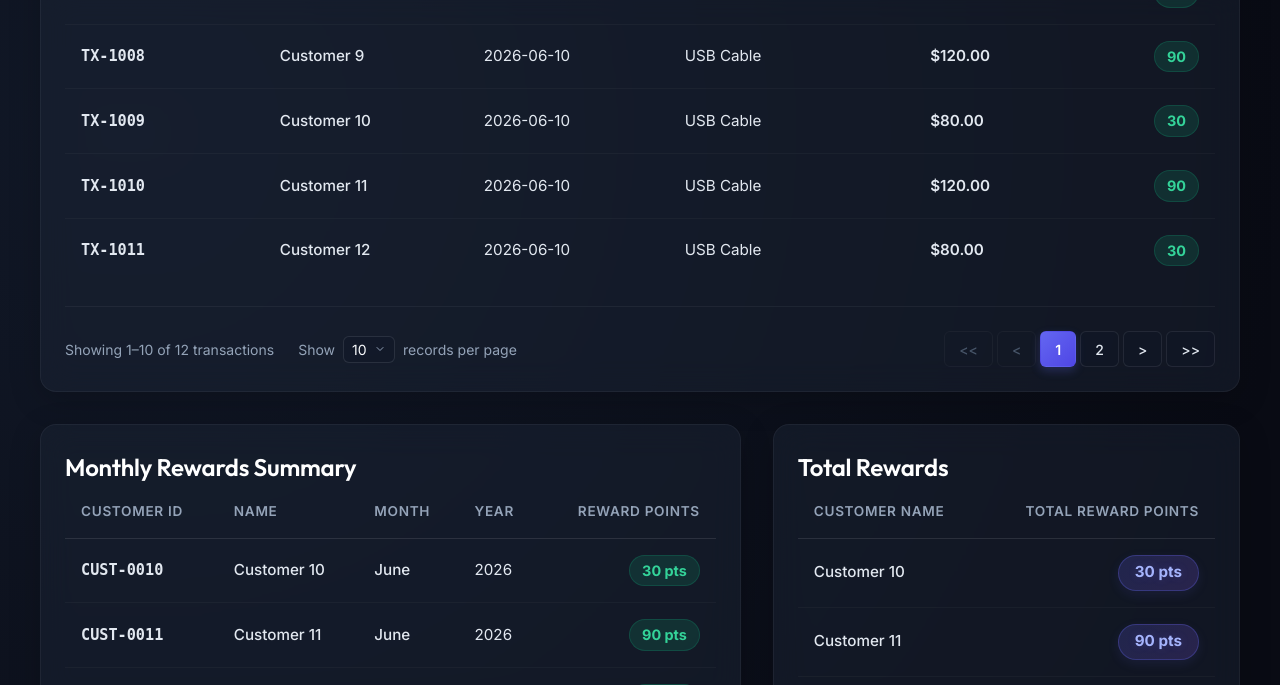
Test case: App Component Integrations › handles page size changes and resets current page to 1
(page scrolled)
Check: the text with test id "pagination-stats" reads "Showing 1–10 of 12 transactions", box [65, 339, 274, 360]
Go to Page 2
Click the button with test id "pagination-next" at (1143, 349), box [1123, 331, 1162, 367]
(page scrolled)
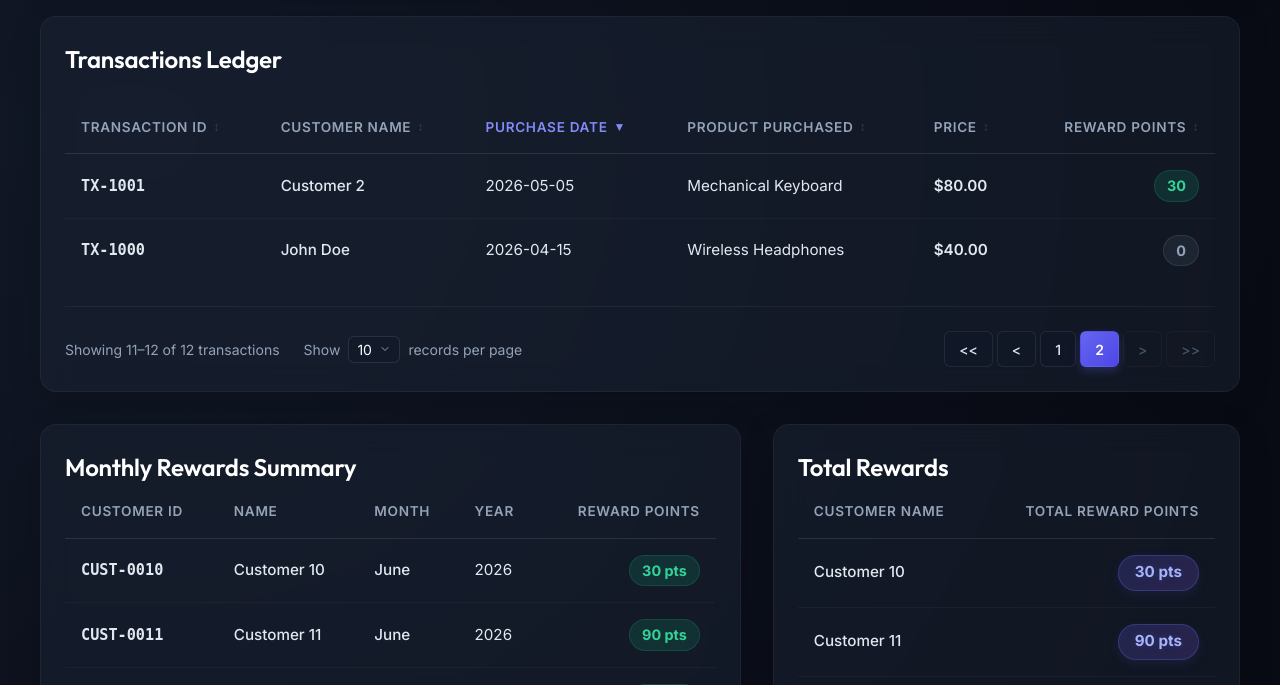
Check: the text with test id "pagination-stats" reads "Showing 11–12 of 12 transactions", box [65, 339, 280, 360]
Change page size to 20
Select "20" in the dropdown with test id "page-size-select" at (374, 349), box [348, 336, 400, 363]
(page scrolled)
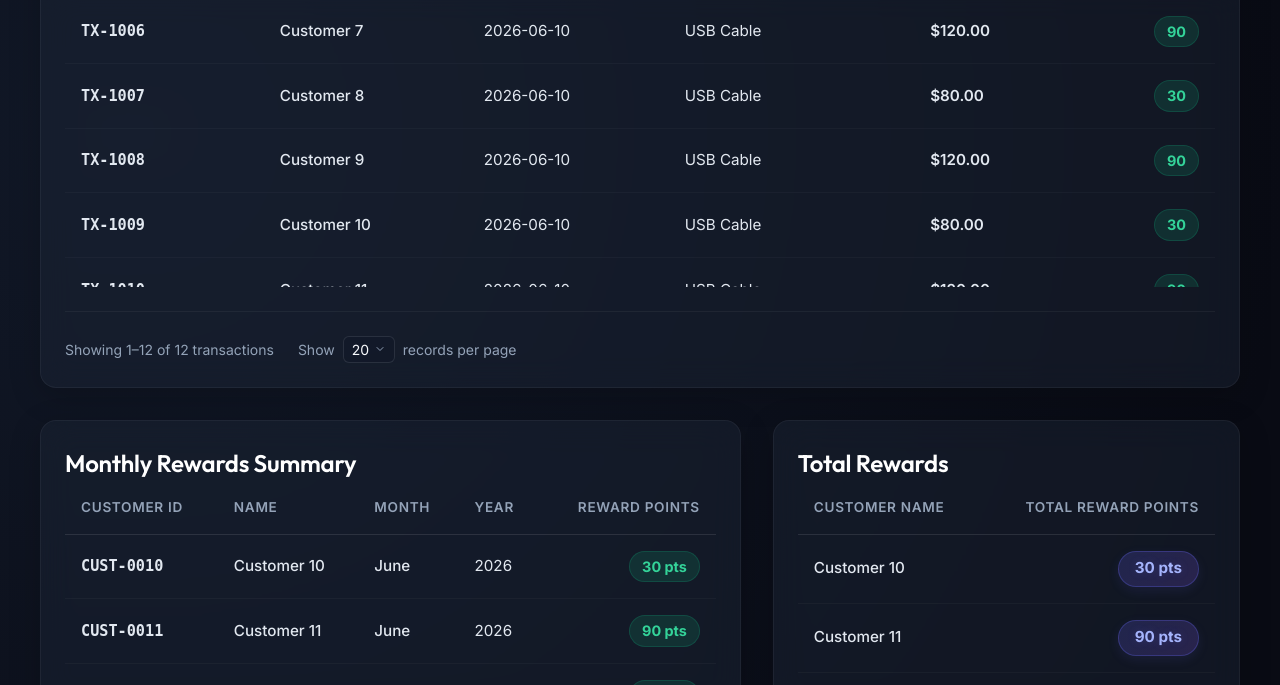
Check: the text with test id "pagination-stats" reads "Showing 1–12 of 12 transactions", box [65, 339, 274, 360]
Check: the button with test id "pagination-page-2" is gone
